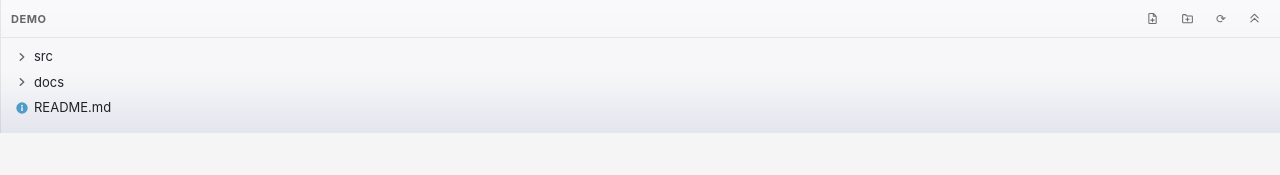
Test case: DocumentTree › loads the root directory and expands directories lazily
Expected: the text "src" is shown, [34, 48, 53, 66]
Expected: the text "docs" is shown, [34, 74, 64, 91]
Click the button "docs" at (49, 82), box [9, 70, 1272, 95]
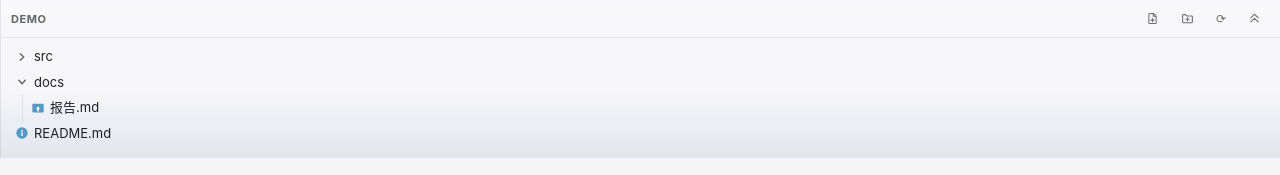
Expected: the text "报告.md" is shown, [50, 99, 99, 117]
